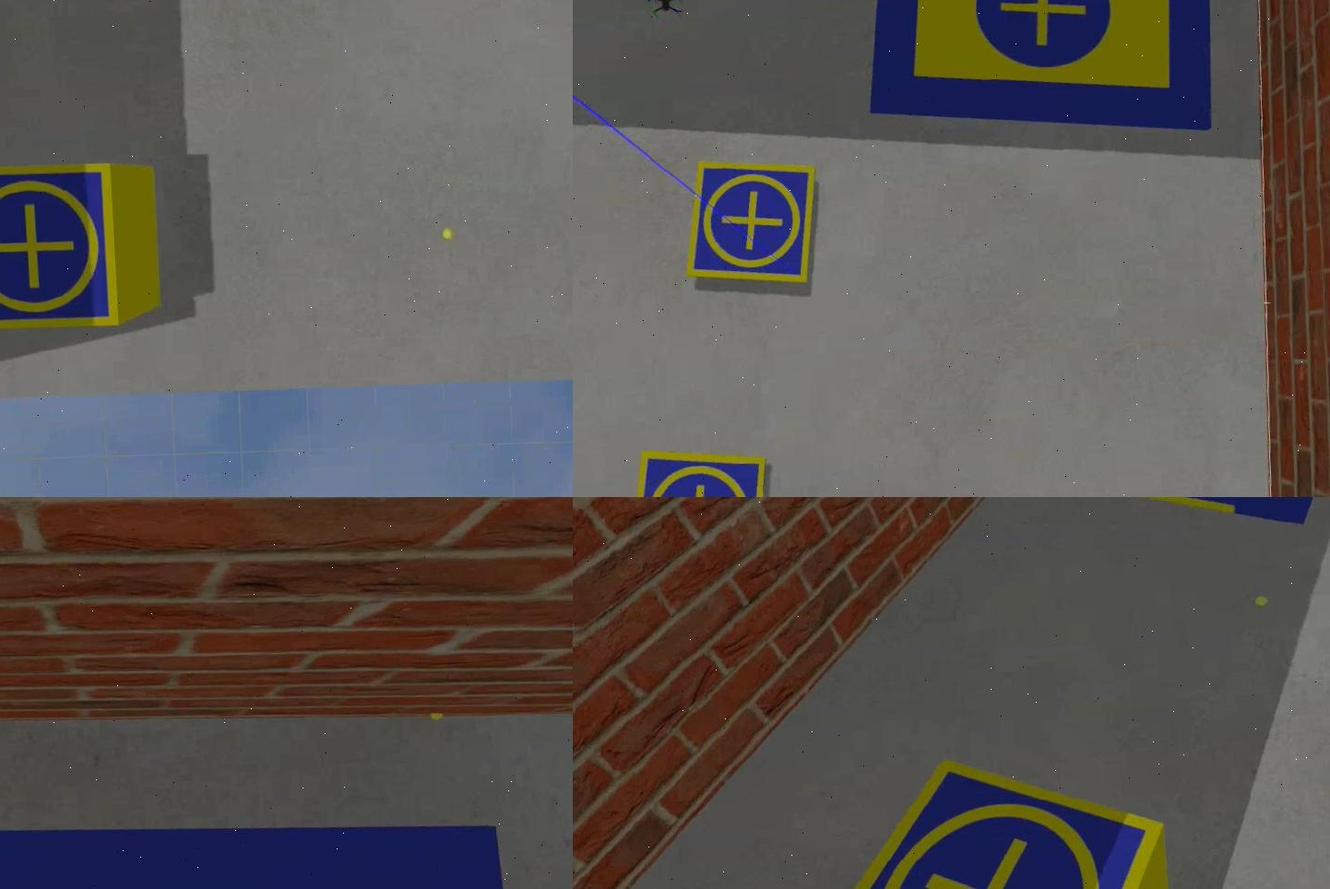large_base: (853, 1, 1219, 153), (0, 794, 526, 889)
small_base: (772, 743, 1175, 889), (0, 159, 121, 339), (680, 155, 824, 297), (617, 445, 772, 498)
